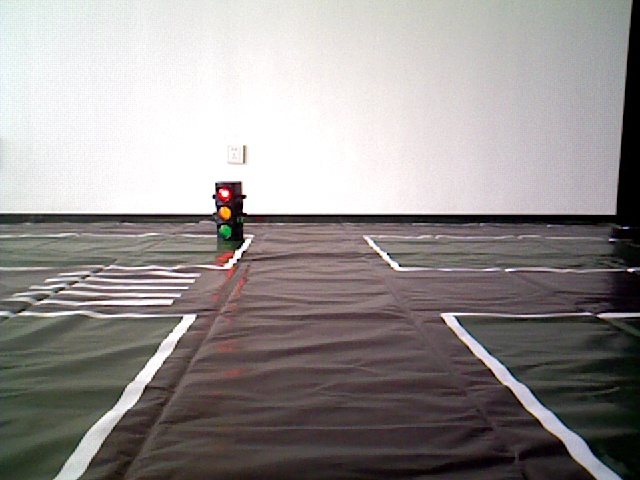red: (214, 181, 237, 243)
